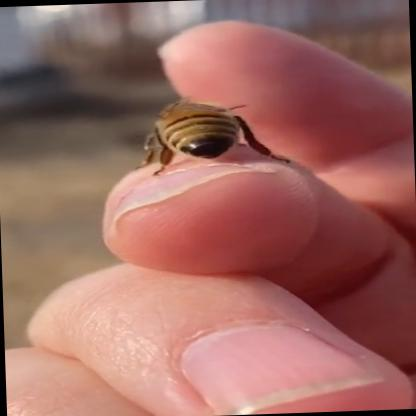bee: (76, 74, 300, 188)
